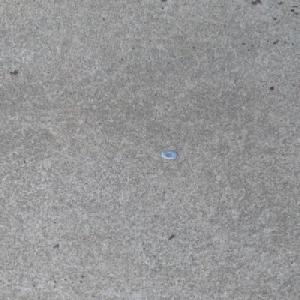Washer: (160, 149, 177, 159)
